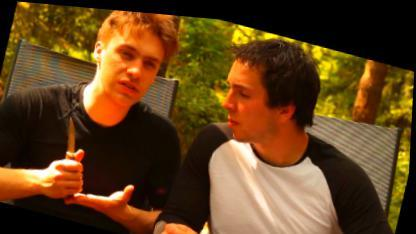knife: (47, 105, 102, 190)
